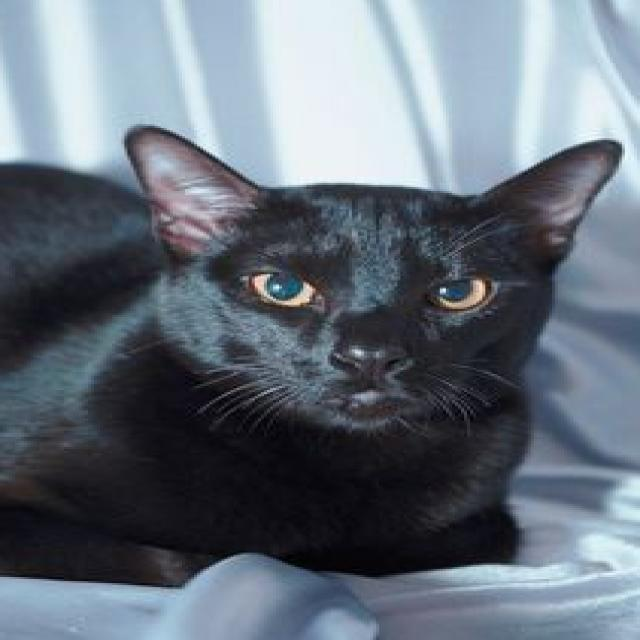Bombay: (0, 120, 637, 595)
